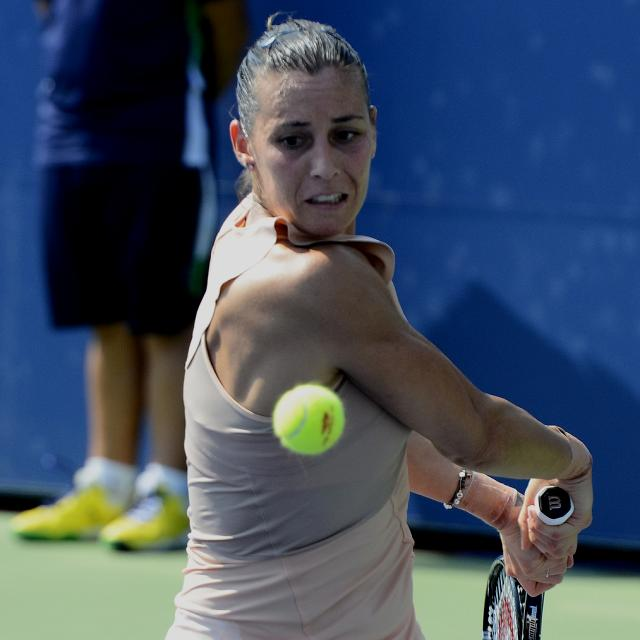Tennis Ball: (274, 384, 344, 454)
